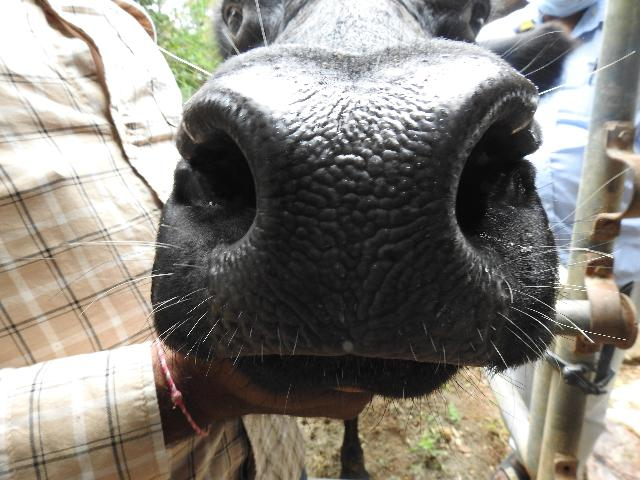Muzzle: (228, 77, 476, 351)
